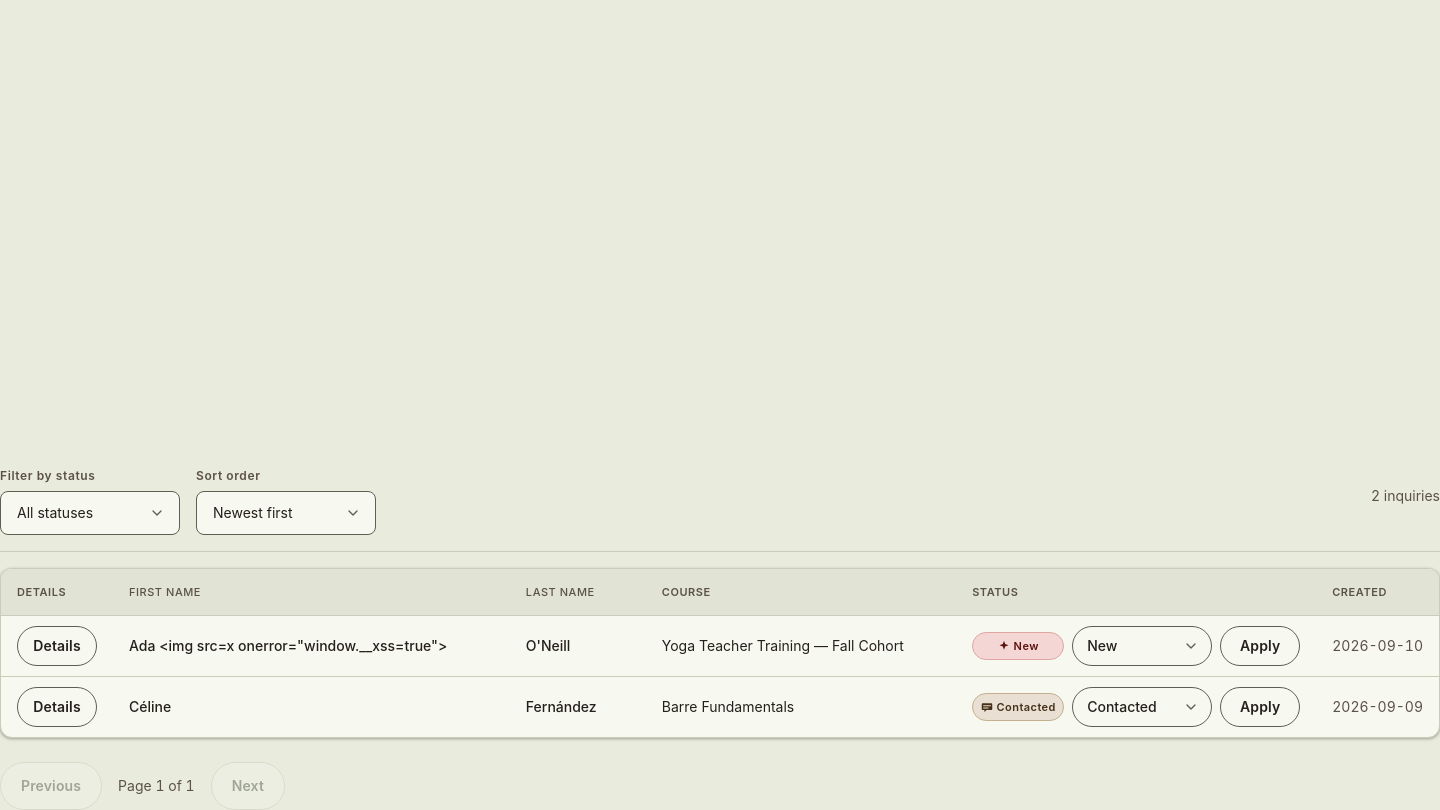
Test case: IT-UI-024 visitor text renders inertly › keeps markup as text and Unicode verbatim in table and detail
(page scrolled)
Expected: the text "Céline" is shown, [113,676,510,737]
Expected: the text "Fernández" is shown, [510,676,646,737]
Click the button with aria-label "details for Ada": (57, 646) [17,626,97,666]
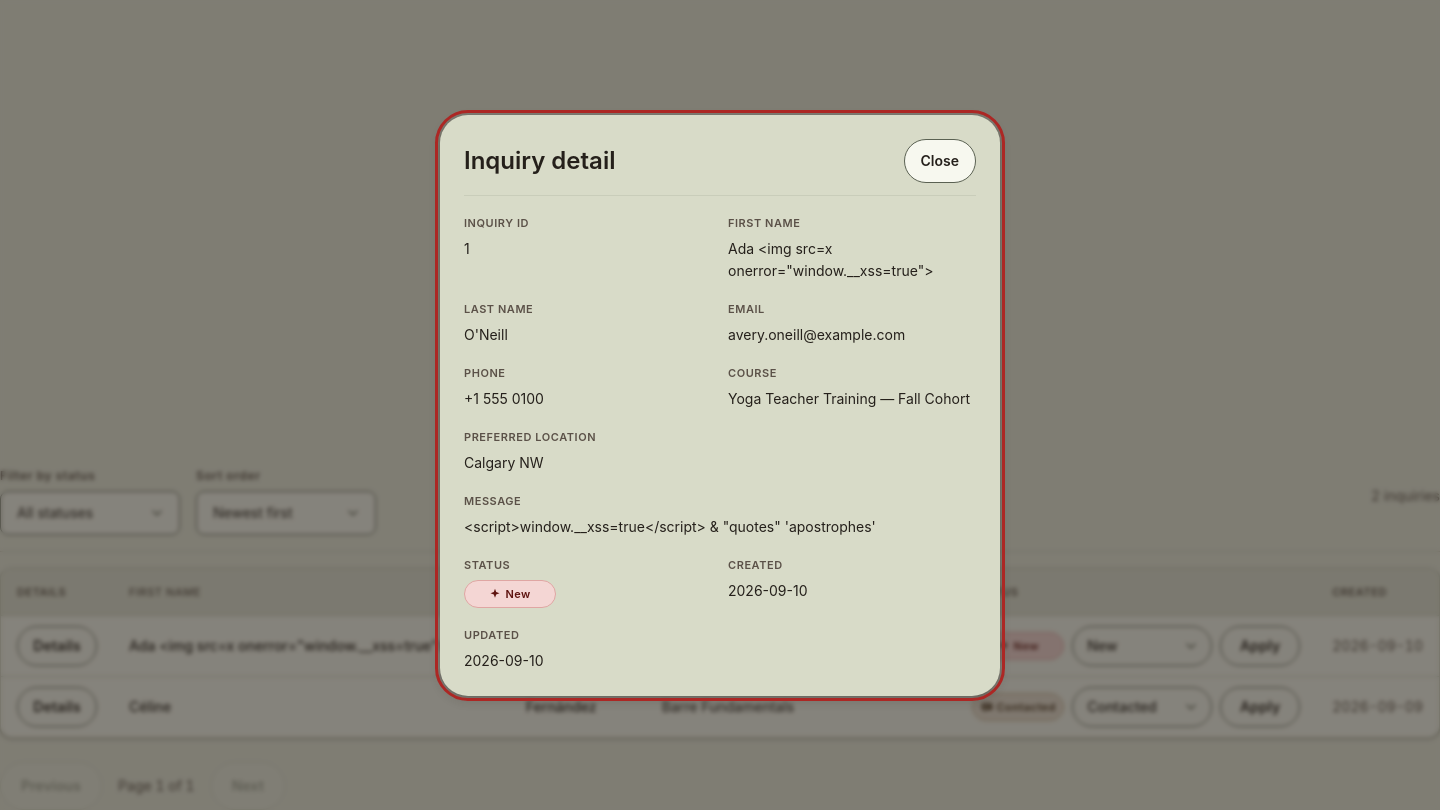
Now the text "Email" is shown, box [728,302,765,316]
Now the dialog with class "detail-panel" shows "\"quotes\"", box [464,518,876,534]
Now the dialog with class "detail-panel" shows "'apostrophes'", box [464,518,876,534]
